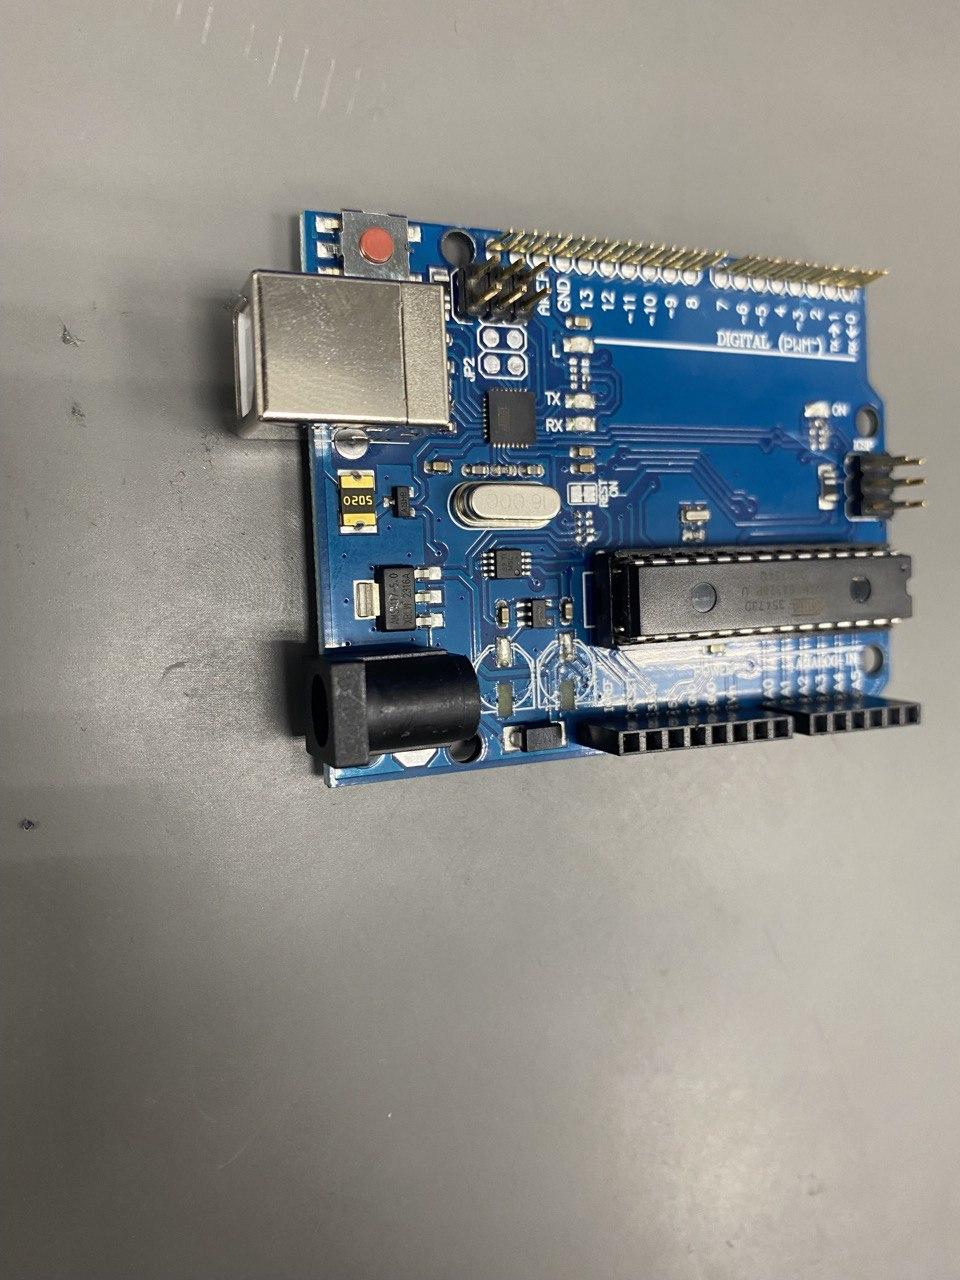ATmega328 chip: (590, 541, 915, 648)
Arduino board: (228, 209, 925, 787)
USB: (227, 268, 449, 444)
pins: (574, 705, 793, 756), (765, 695, 922, 738)
